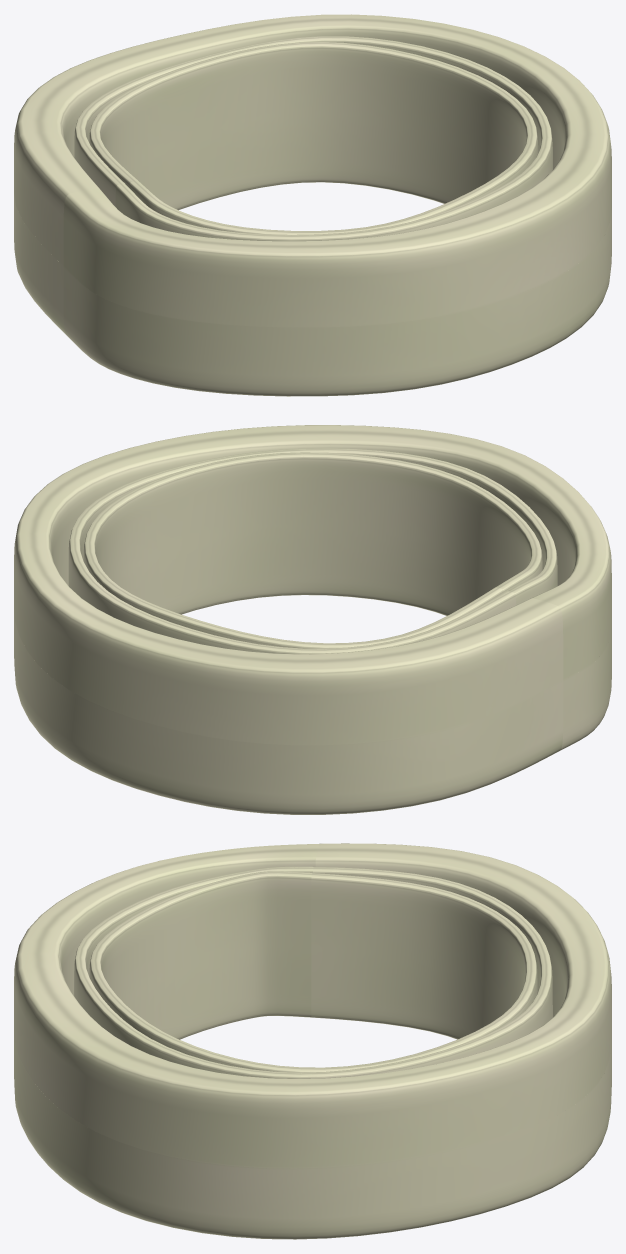
The model's file is onion.glb.
The picture shows the model from 3 angles, top to bottom: view 1: azimuth 30°, elevation 25°; view 2: azimuth 150°, elevation 25°; view 3: azimuth 270°, elevation 25°; orthographic projection. The views are drawn at different scales.
Parts seen in each view (by area): view 1: onion; view 2: onion; view 3: onion.
Boxes of the visible parts, x1,y1,x2,y2 form: onion: (14,14,611,396); onion: (14,425,611,814); onion: (14,843,611,1239).
Bounding box in the file's own units: 0.9606 × 0.274 × 0.9487.
1 material, 1 textured.
